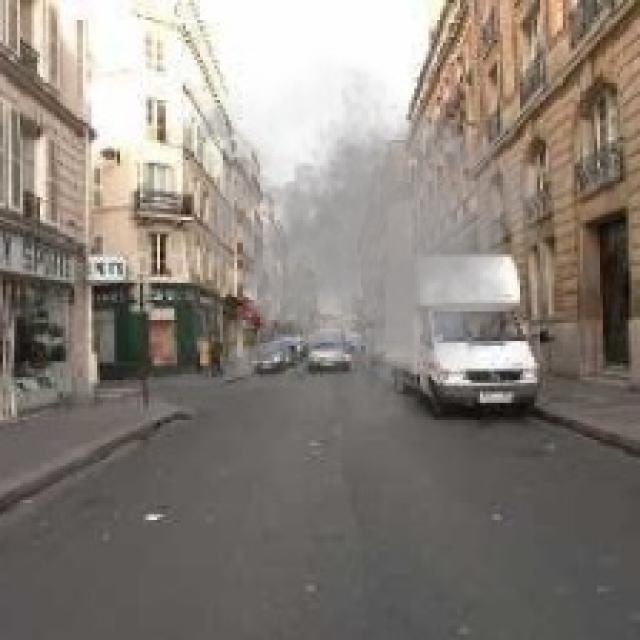smoke: (183, 46, 548, 440)
